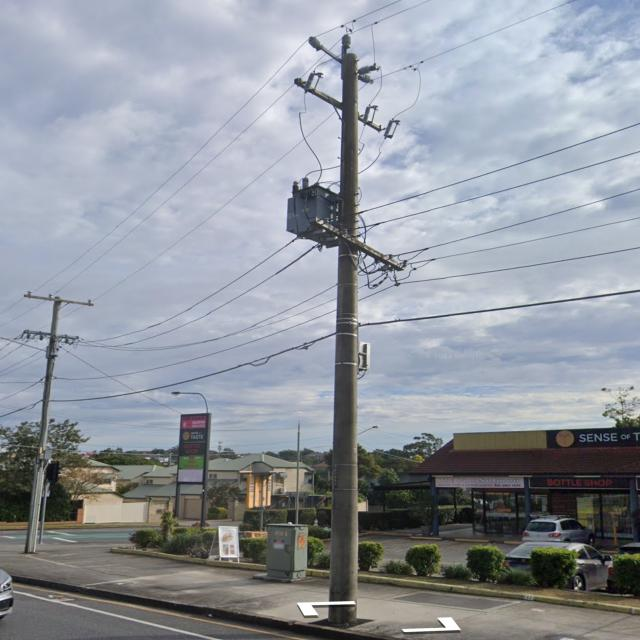HV-transmission: (294, 33, 400, 141), (24, 290, 94, 306)
concrete-pole: (326, 52, 361, 626)
crossarm: (312, 218, 408, 273), (294, 79, 383, 133), (320, 45, 373, 85), (23, 294, 95, 307), (24, 329, 78, 340)
steel-pole: (295, 432, 300, 525)
streetlight: (170, 391, 208, 412), (357, 425, 379, 436)
timber-pole: (23, 295, 62, 555)
transformer: (288, 180, 341, 247)
